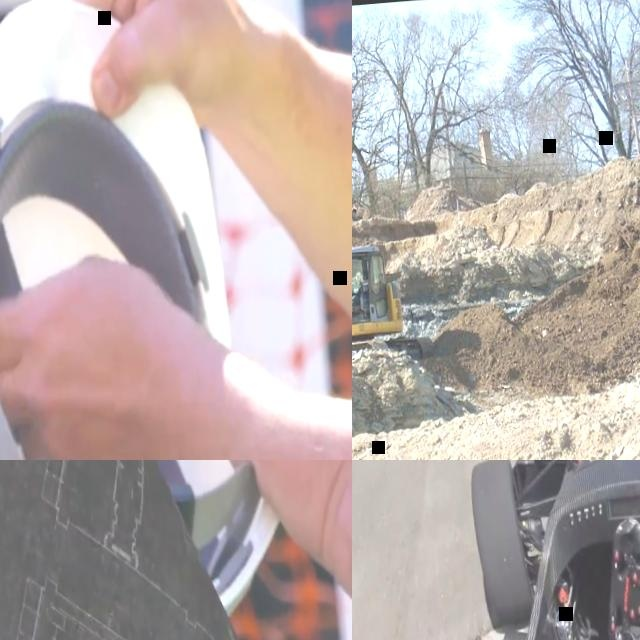Hardhat: (0, 0, 252, 460), (5, 460, 330, 630)
Person: (0, 0, 352, 460), (173, 460, 352, 640)
machinery: (352, 157, 435, 372)
vehicle: (429, 460, 640, 640)
